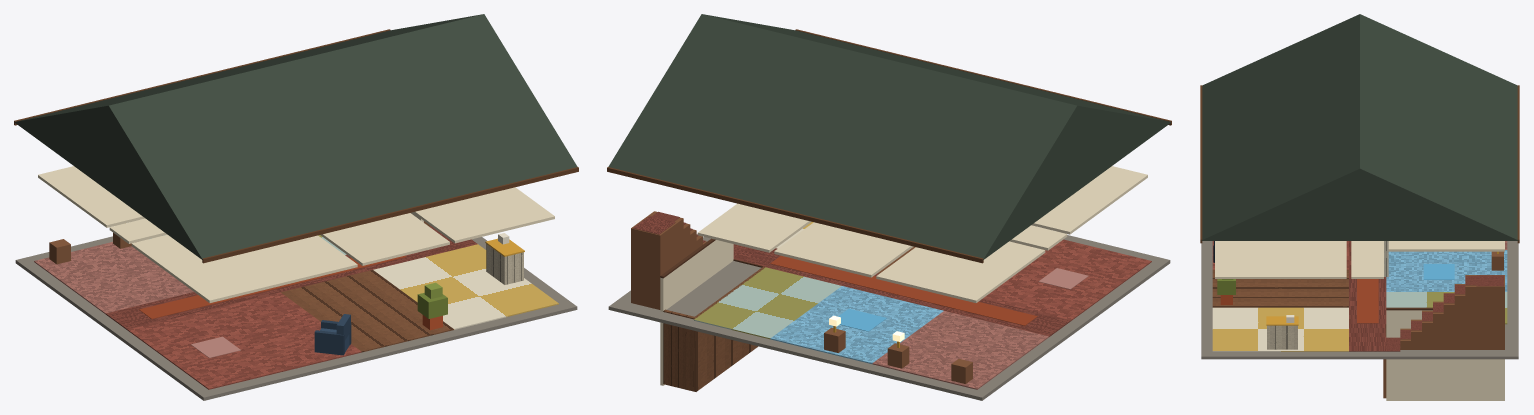
The model's file is structure.glb.
3 renders of one model, left to right at view 1: azimuth 30°, elevation 25°; view 2: azimuth 150°, elevation 25°; view 3: azimuth 270°, elevation 25°, orthographic. The views are drawn at different scales.
Visible parts, largest first — view 1: Part1, Box2, Box3, Box1, Box6, Box4, Box14, Box7, Box5, Box8, Box15, Box20 (+7 smaller); view 2: Part1, Box1, Box14, Box2, Box10, Box12, Box15, Box11, Box13, Box3, Box76, Box35 (+9 smaller); view 3: Part1, Box37, Box1, Box6, Box7, Box4, Box10, Box8, Box35, Box13, Box9, Box76 (+12 smaller).
Boxes of the visible parts, box(x1,y1,x2,y2) form: Part1: box(15, 14, 577, 259); Box2: box(128, 292, 361, 389); Box3: box(131, 234, 357, 302); Box1: box(15, 236, 577, 400); Box6: box(373, 244, 558, 329); Box4: box(281, 270, 453, 352); Box14: box(34, 242, 193, 313); Box7: box(413, 187, 554, 243); Box5: box(320, 213, 449, 265); Box8: box(105, 232, 477, 330); Box15: box(38, 166, 145, 227); Box20: box(202, 167, 578, 263); Part1: box(608, 14, 1170, 259); Box1: box(608, 235, 1170, 400); Box14: box(872, 311, 1048, 389); Box2: box(983, 239, 1151, 320); Box10: box(770, 286, 943, 363); Box12: box(694, 267, 841, 339); Box15: box(876, 241, 1045, 302); Box11: box(774, 222, 913, 277); Box13: box(697, 203, 811, 252); Box3: box(1031, 166, 1147, 234); Box76: box(770, 255, 1037, 325); Box35: box(631, 216, 677, 309); Part1: box(1201, 14, 1518, 240); Box37: box(1386, 310, 1504, 400); Box1: box(1201, 241, 1518, 359); Box6: box(1212, 307, 1348, 351); Box7: box(1215, 241, 1346, 278); Box4: box(1212, 269, 1348, 307); Box10: box(1386, 250, 1507, 291); Box8: box(1349, 241, 1386, 351); Box35: box(1476, 275, 1504, 349); Box13: box(1388, 241, 1504, 251); Box9: box(1351, 241, 1383, 278); Box76: box(1357, 279, 1378, 323).
Size of the model in its own units: 11.8 by 8.92 by 10.3.
32 materials, 9 textured.
